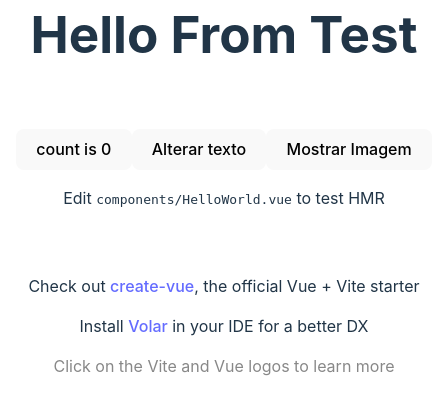
Test: should validate App the componnent
Click the button "count is 0".
click(74, 150)  # box [16,129,132,170]
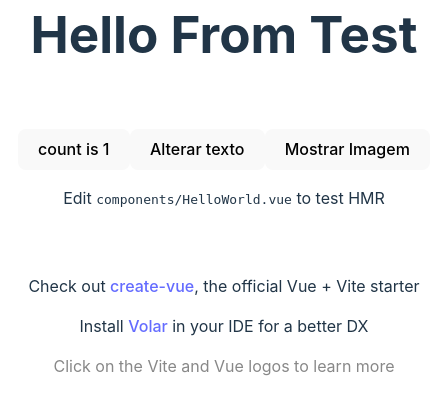
Expected: the text "count is 1" is shown, [18,129,130,170]
